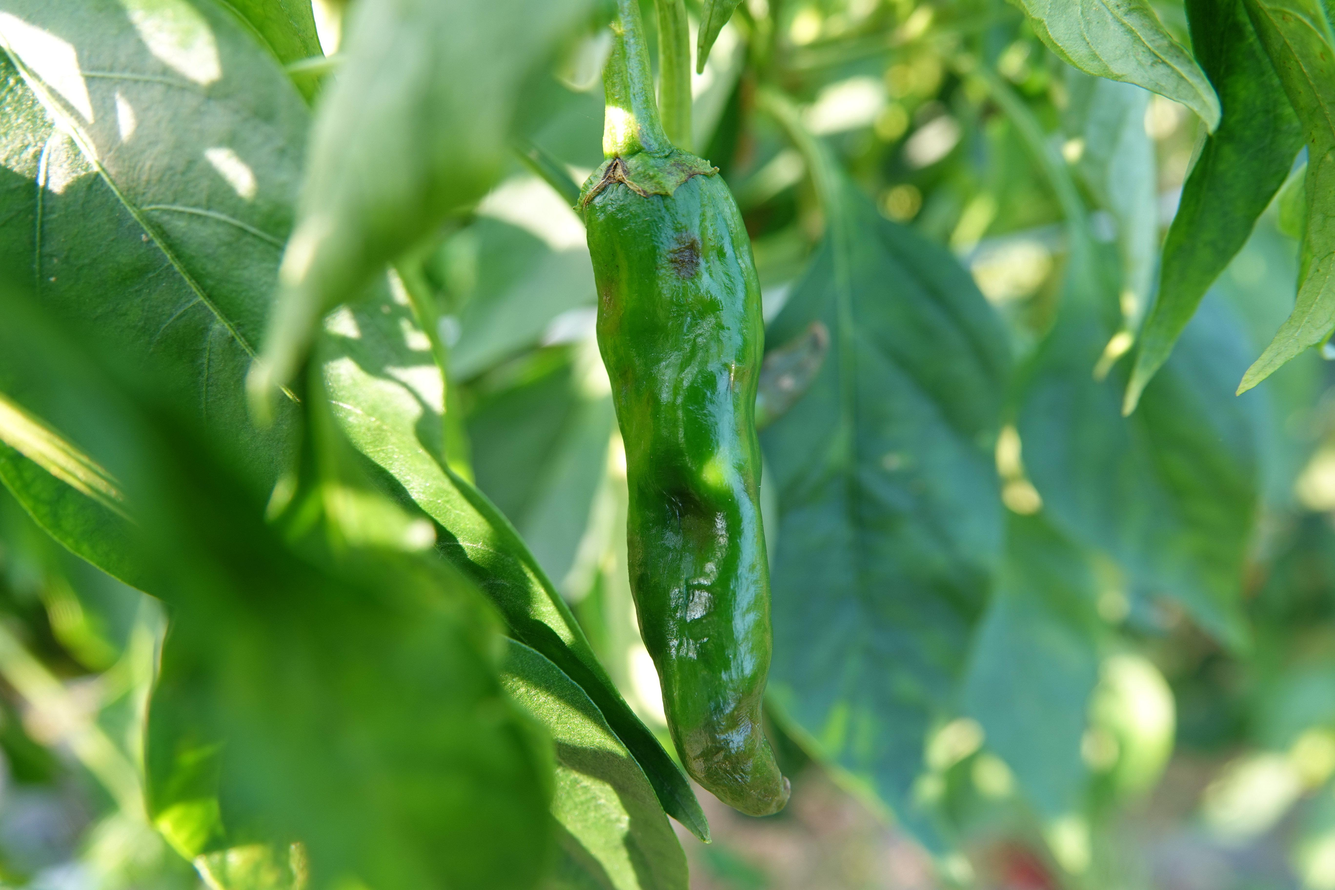Busuk Buah Antraknosa: (571, 4, 794, 820)
